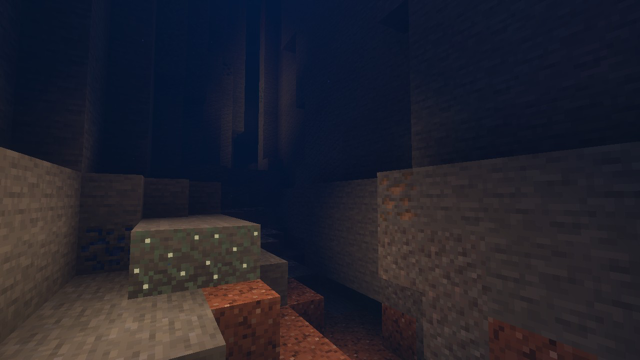iron: (376, 168, 419, 225)
lapis: (76, 222, 136, 277)
